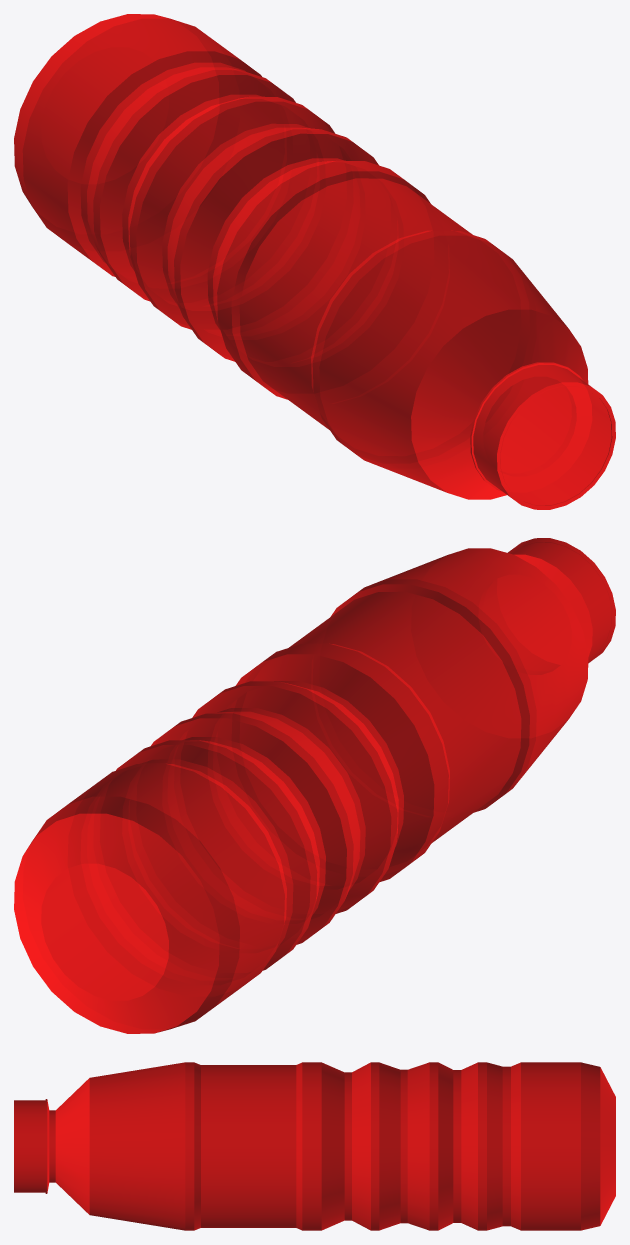
File: model_align.obj
3 renders of one model, top to bottom at view 1: azimuth 30°, elevation 25°; view 2: azimuth 150°, elevation 25°; view 3: azimuth 270°, elevation 25°, orthographic. The views are drawn at different scales.
Parts seen in each view (by area): view 1: mesh1_mesh1-geometry; view 2: mesh1_mesh1-geometry; view 3: mesh1_mesh1-geometry.
Boxes of the visible parts, x1=… form: mesh1_mesh1-geometry: x1=14, y1=14, x2=615, y2=509; mesh1_mesh1-geometry: x1=14, y1=538, x2=615, y2=1033; mesh1_mesh1-geometry: x1=14, y1=1062, x2=615, y2=1230.
Size of the model in its own units: 0.0765 by 0.0765 by 0.2752.
